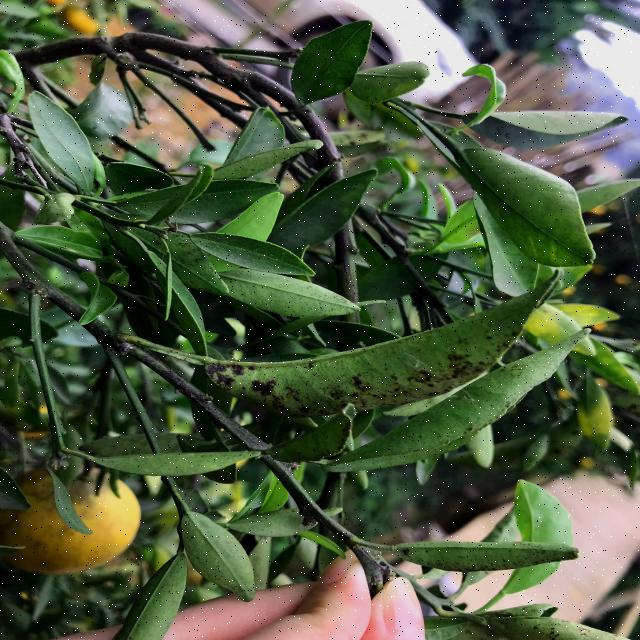melanose: (188, 276, 558, 426)
